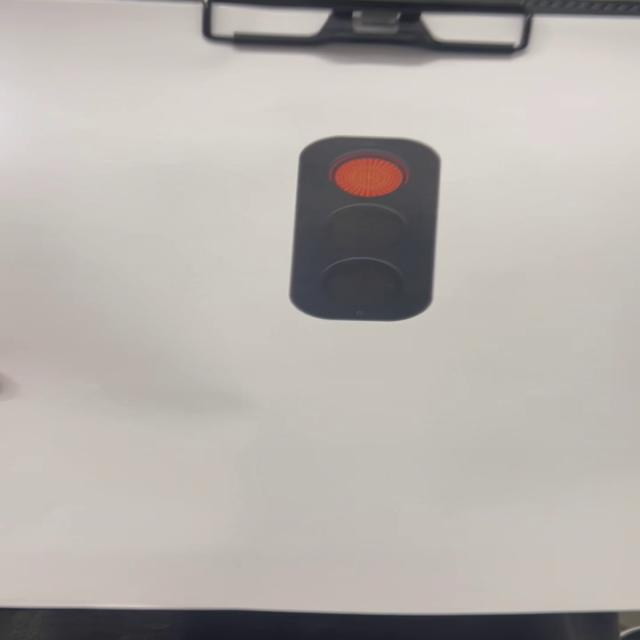red: (287, 137, 443, 323)
